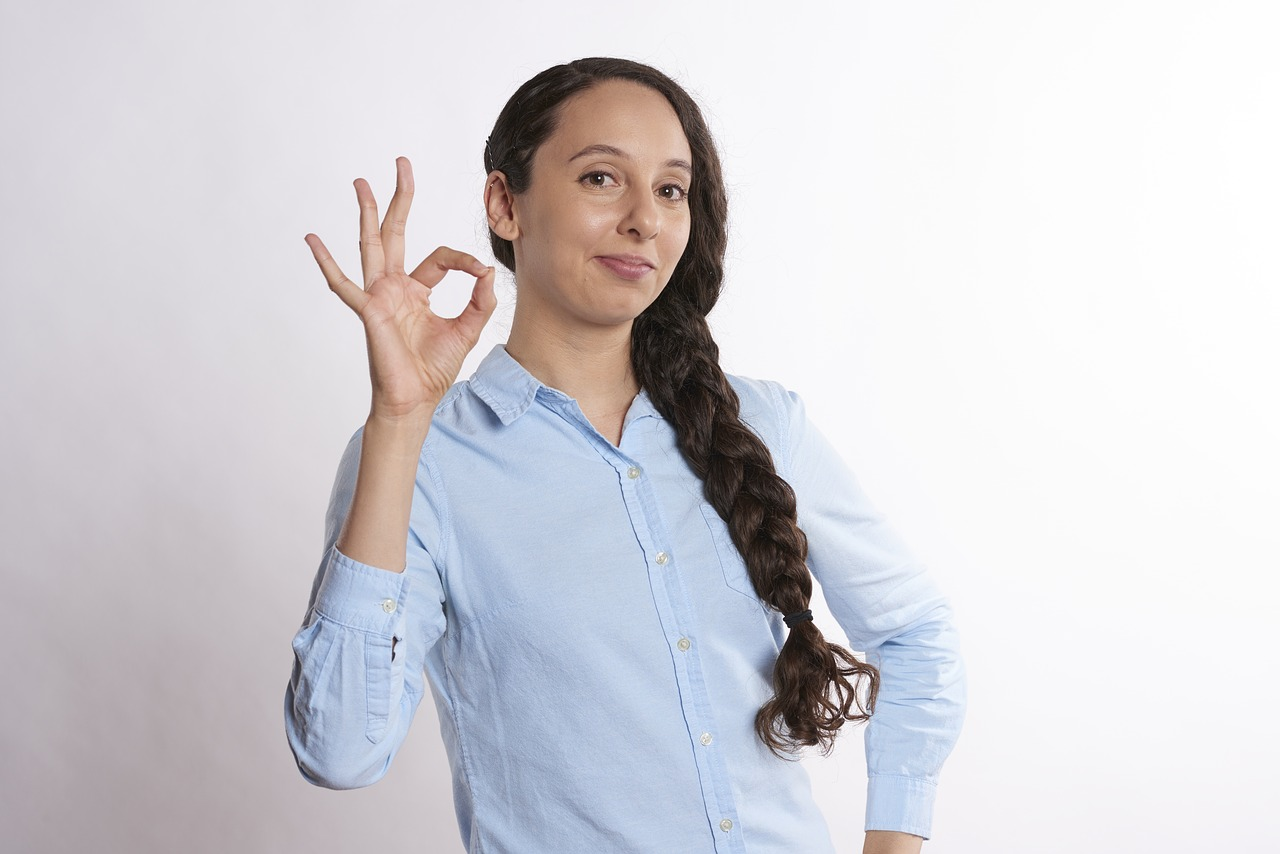oksign: (327, 197, 496, 386)
